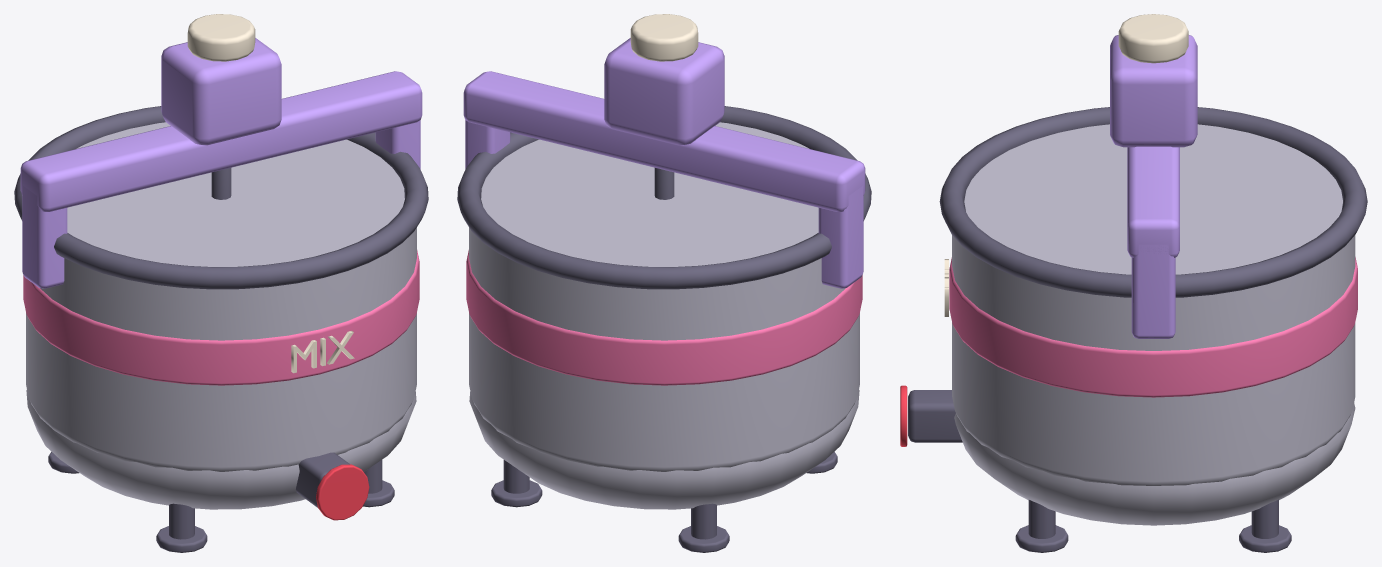
The model's file is candy_vat.glb.
The picture shows the model from 3 angles, left to right: view 1: azimuth 30°, elevation 25°; view 2: azimuth 150°, elevation 25°; view 3: azimuth 270°, elevation 25°; orthographic projection. The views are drawn at different scales.
Visible parts, largest first — view 1: Vat, Paddle; view 2: Vat, Paddle; view 3: Vat.
Boxes of the visible parts, x1,y1,x2,y2 form: Vat: [14, 14, 428, 552]; Paddle: [211, 168, 231, 199]; Vat: [457, 14, 871, 552]; Paddle: [654, 168, 674, 199]; Vat: [900, 14, 1367, 552].
Size of the model in its own units: 5.2 by 5.9 by 5.33.
